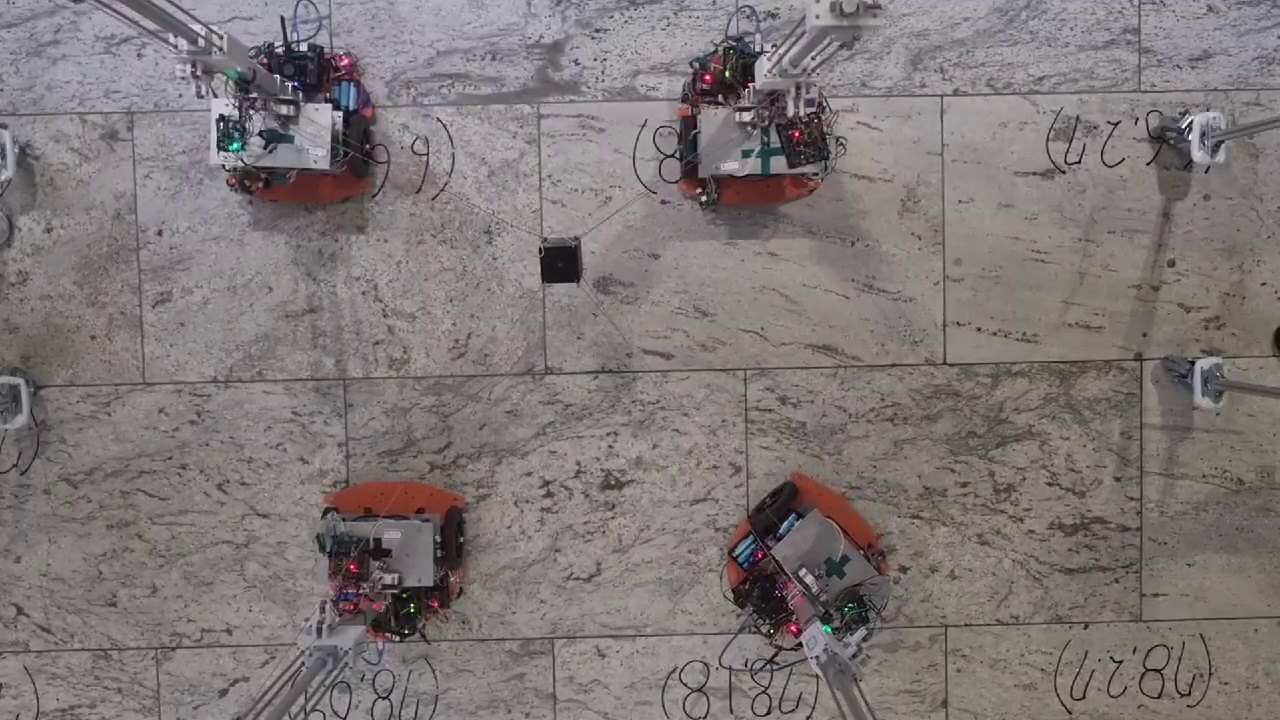e0: (539, 237, 584, 284)
r1: (749, 481, 883, 613)
r2: (679, 111, 828, 181)
r3: (217, 107, 373, 178)
r4: (315, 507, 466, 571)
y_+_axis_vector: (545, 364, 944, 374)
y_-_axis_vector: (144, 374, 546, 384)
